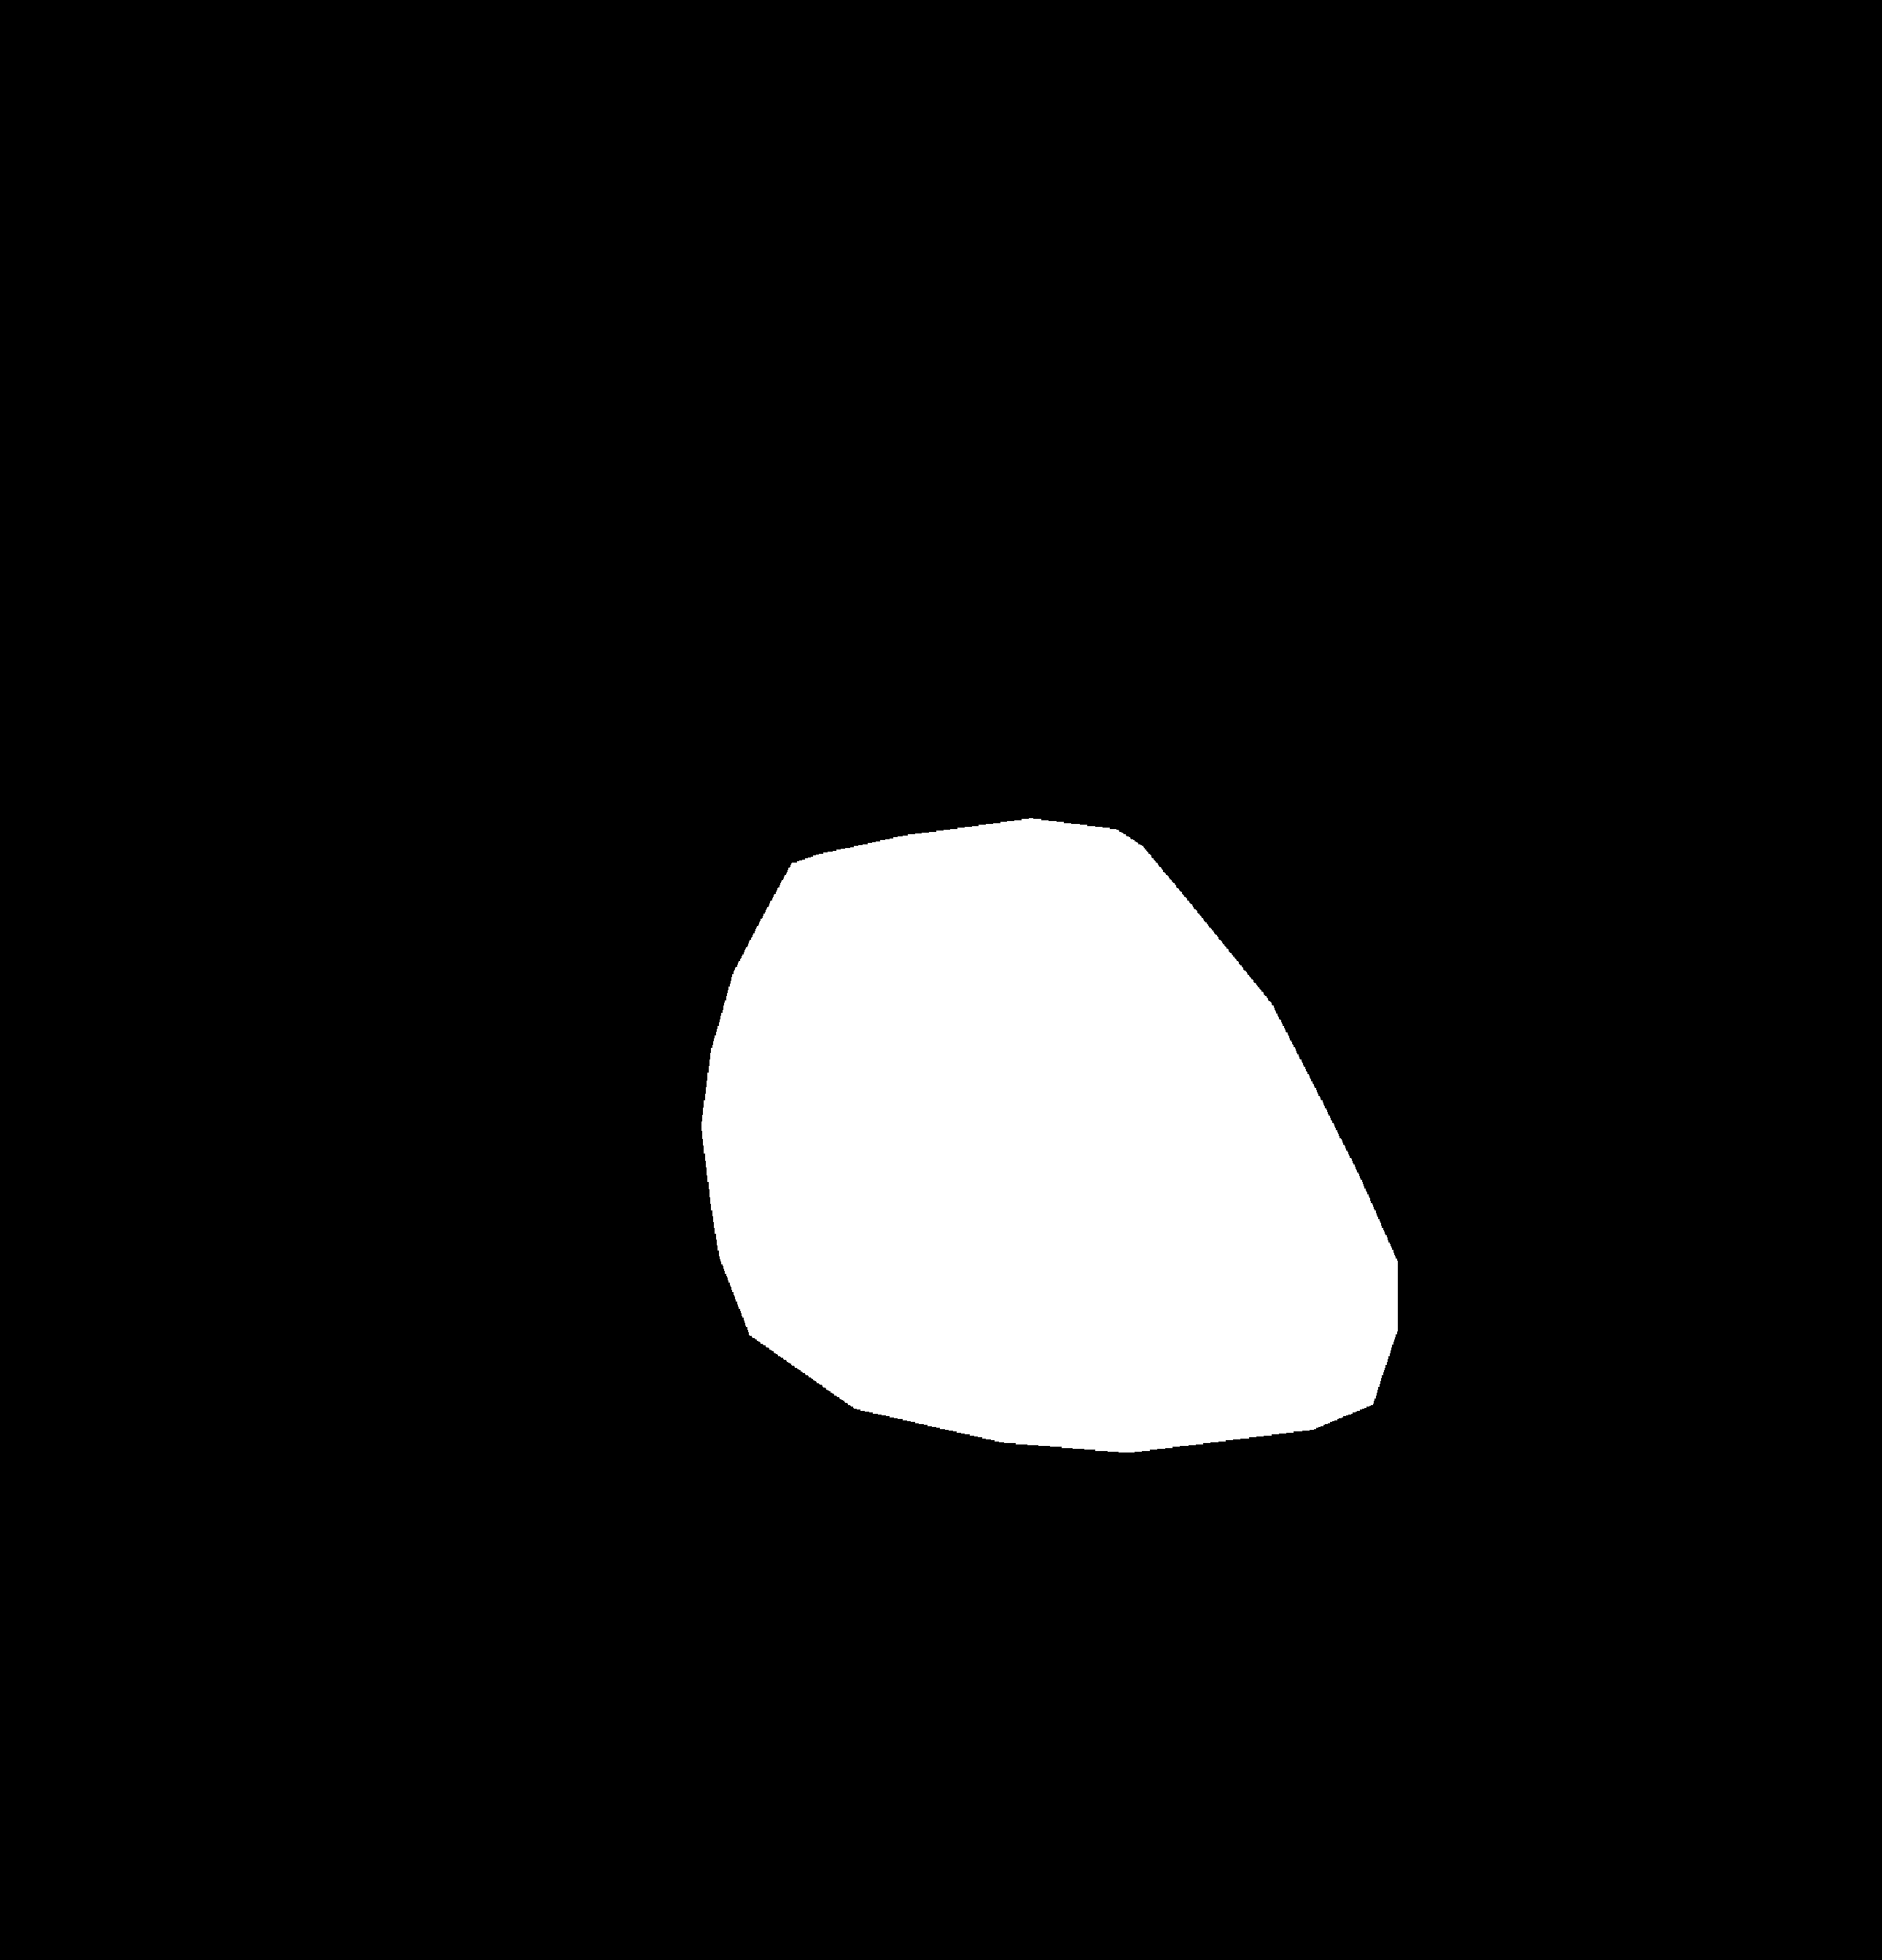heart: (699, 885, 1397, 1480)
left_lung: (277, 217, 861, 1493)
right_lung: (991, 201, 1607, 1512)
